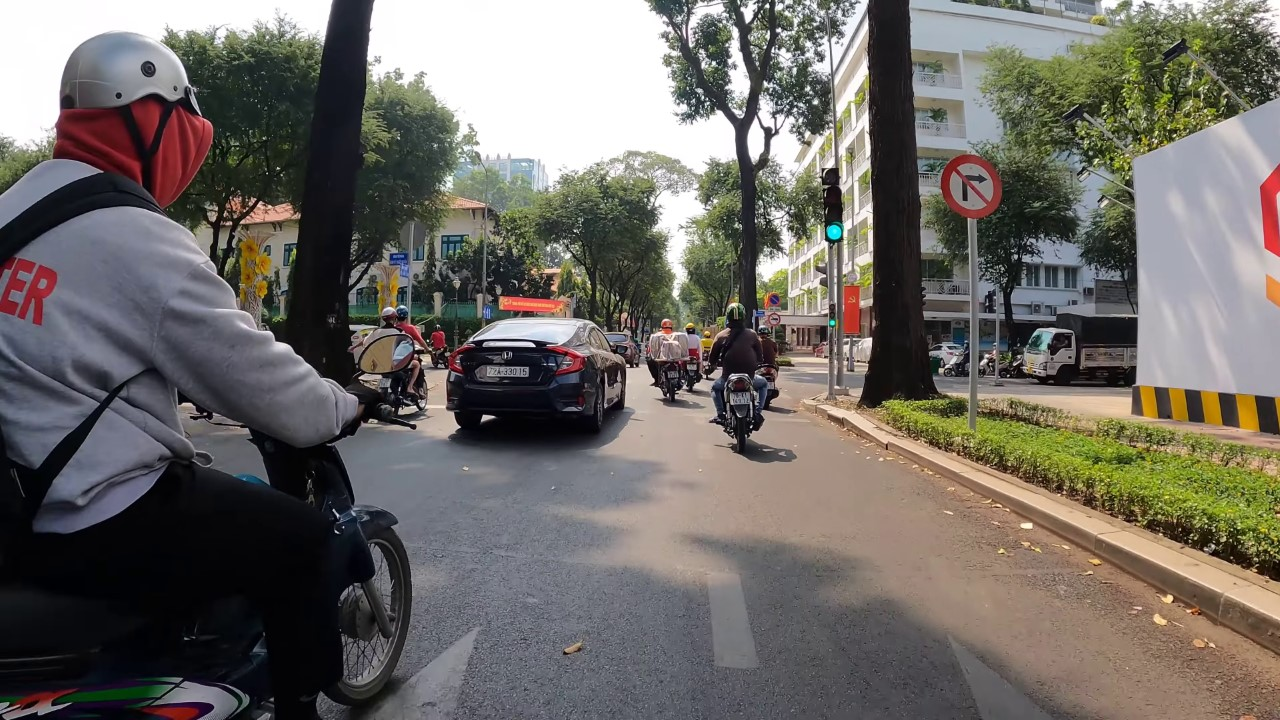cam_re_phai: (936, 149, 1006, 222)
